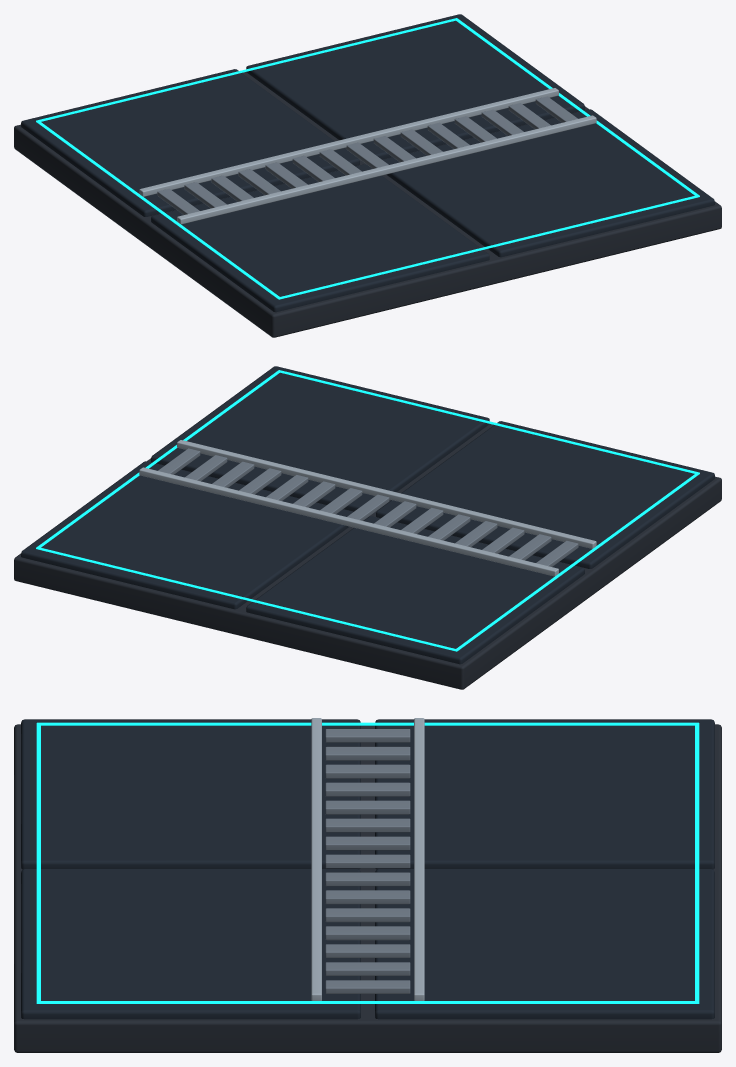
File: modular_floor_tile.glb
3 renders of one model, top to bottom at view 1: azimuth 30°, elevation 25°; view 2: azimuth 150°, elevation 25°; view 3: azimuth 270°, elevation 25°, orthographic. The views are drawn at different scales.
Visible parts, largest first — view 1: Obsidian_inlay, Obsidian_inlay.002, Obsidian_inlay.001, Obsidian_inlay.003, Floor_tile_base_4m, Grating_rim, Grating_rim.001, Neon_edge_Y, Neon_edge_Y.001, Neon_edge_X, Neon_edge_X.001; view 2: Obsidian_inlay.001, Obsidian_inlay.003, Obsidian_inlay, Obsidian_inlay.002, Floor_tile_base_4m, Grating_rim.001, Grating_rim, Neon_edge_Y.001, Neon_edge_Y, Neon_edge_X, Neon_edge_X.001; view 3: Obsidian_inlay.002, Obsidian_inlay.003, Obsidian_inlay, Obsidian_inlay.001, Floor_tile_base_4m, Grating_rim, Grating_rim.001, Neon_edge_X, Neon_edge_X.001, Neon_edge_Y, Neon_edge_Y.001, Drain_grating_slat.002 (+14 smaller).
Part boxes in pixels (x1,y1,x2,y2): Obsidian_inlay: (151,164,489,312); Obsidian_inlay.002: (383,109,714,257); Obsidian_inlay.001: (21,69,359,216); Obsidian_inlay.003: (246,14,584,159); Floor_tile_base_4m: (14,72,721,337); Grating_rim: (177,115,596,224); Grating_rim.001: (139,88,558,196); Neon_edge_Y: (279,195,699,299); Neon_edge_Y.001: (36,18,456,121); Neon_edge_X: (36,120,280,299); Neon_edge_X.001: (455,18,699,195); Obsidian_inlay.001: (246,516,584,664); Obsidian_inlay.003: (21,461,352,609); Obsidian_inlay: (376,421,714,568); Obsidian_inlay.002: (151,366,489,511); Floor_tile_base_4m: (14,424,721,689); Grating_rim.001: (139,467,558,576); Grating_rim: (177,440,596,548); Neon_edge_Y.001: (36,547,456,651); Neon_edge_Y: (279,370,699,473); Neon_edge_X: (455,472,699,651); Neon_edge_X.001: (36,370,280,547); Obsidian_inlay.002: (21,869,360,1019); Obsidian_inlay.003: (375,869,714,1019); Obsidian_inlay: (21,719,360,869); Obsidian_inlay.001: (375,719,714,869); Floor_tile_base_4m: (14,724,721,1052); Grating_rim: (311,718,321,1000); Grating_rim.001: (414,718,424,1000); Neon_edge_X: (37,722,698,725); Neon_edge_X.001: (37,1001,698,1003); Neon_edge_Y: (36,723,40,1003); Neon_edge_Y.001: (695,723,699,1003); Drain_grating_slat.002: (325,764,410,778).
Bounding box in the file's own units: 4 × 0.305 × 4.
